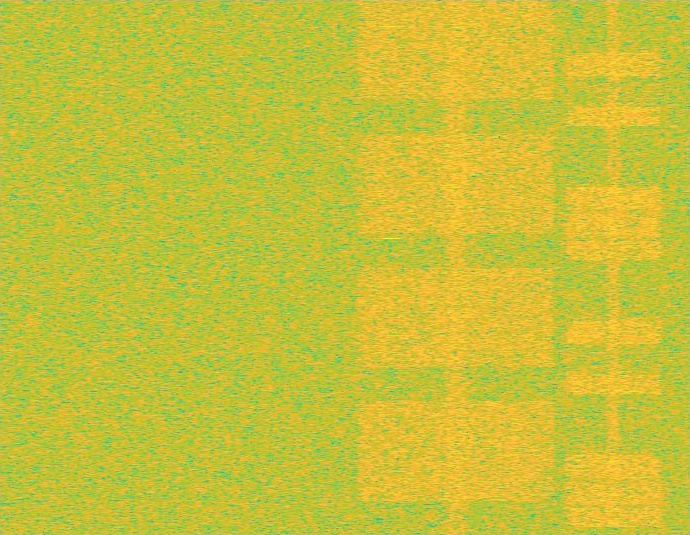5G: (353, 0, 560, 534)
DSSS: (442, 0, 470, 534), (607, 0, 621, 534)
LTE: (562, 0, 665, 534)
Radar: (385, 0, 399, 534)
